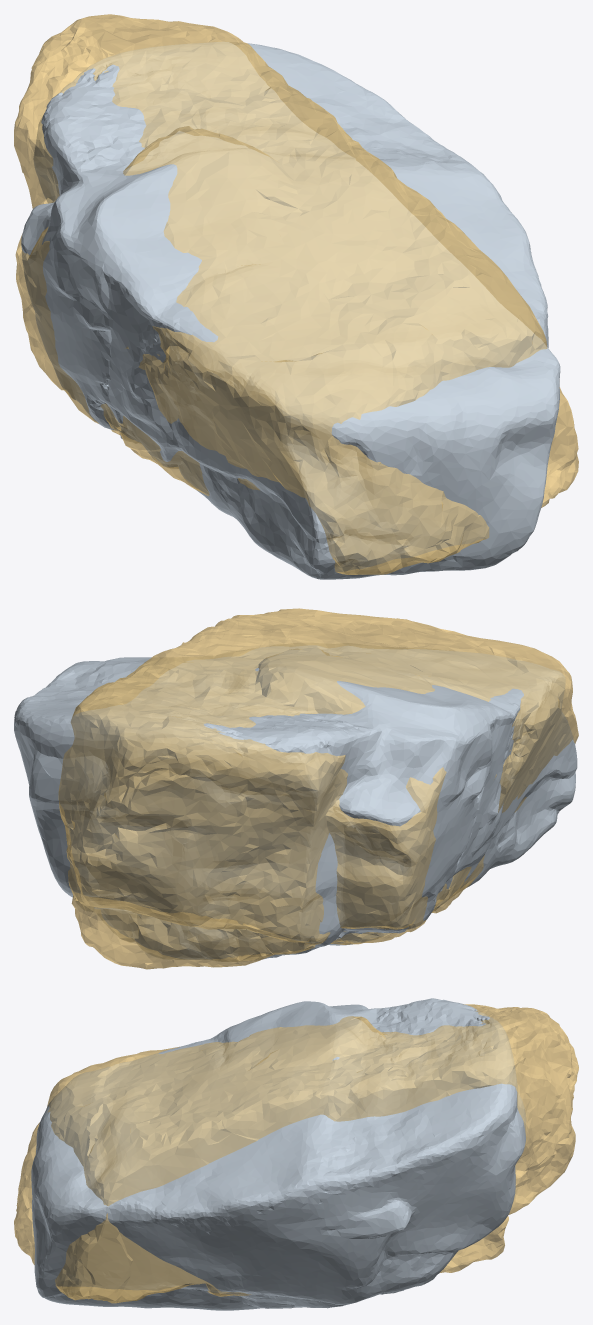
3 renders of one model, top to bottom at view 1: azimuth 30°, elevation 25°; view 2: azimuth 150°, elevation 25°; view 3: azimuth 270°, elevation 25°, orthographic. The views are drawn at different scales.
Visible parts, largest first — view 1: imagination, truth; view 2: imagination, truth; view 3: imagination, truth.
Boxes of the visible parts, x1=… form: imagination: x1=21, y1=42, x2=560, y2=579; truth: x1=14, y1=14, x2=578, y2=574; imagination: x1=14, y1=643, x2=577, y2=961; truth: x1=58, y1=608, x2=578, y2=969; imagination: x1=31, y1=998, x2=525, y2=1310; truth: x1=14, y1=1004, x2=578, y2=1303.
Size of the model in its own units: 0.7831 by 0.5976 by 1.2.
